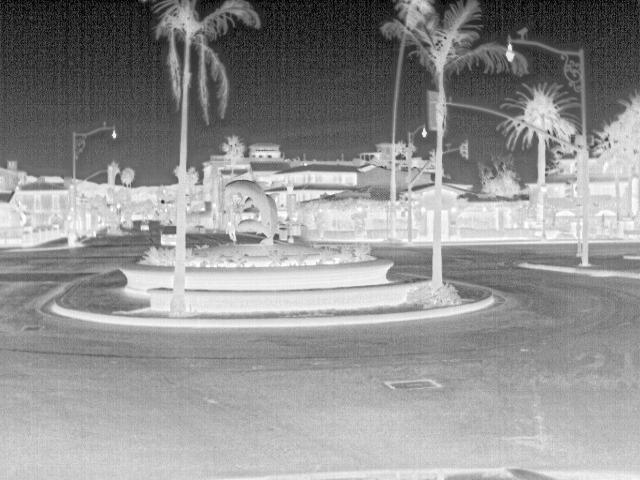car: (159, 224, 177, 246), (140, 218, 151, 232)
person: (223, 220, 240, 243)
